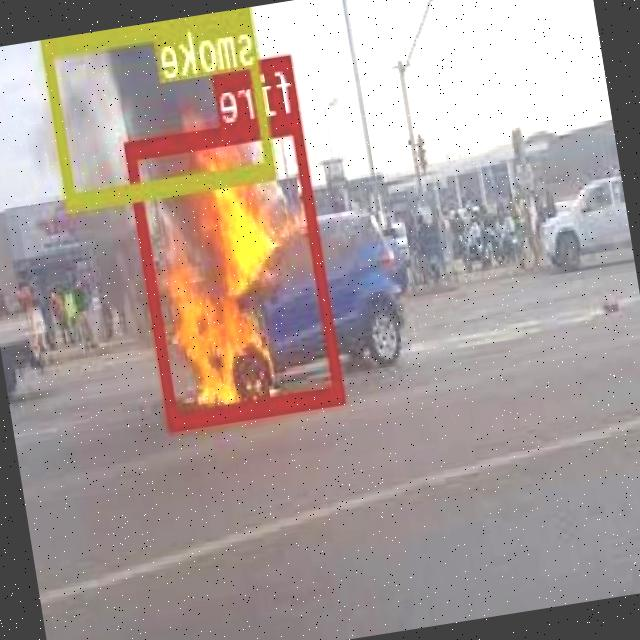fire: (126, 111, 346, 426)
smoke: (45, 7, 282, 208)
